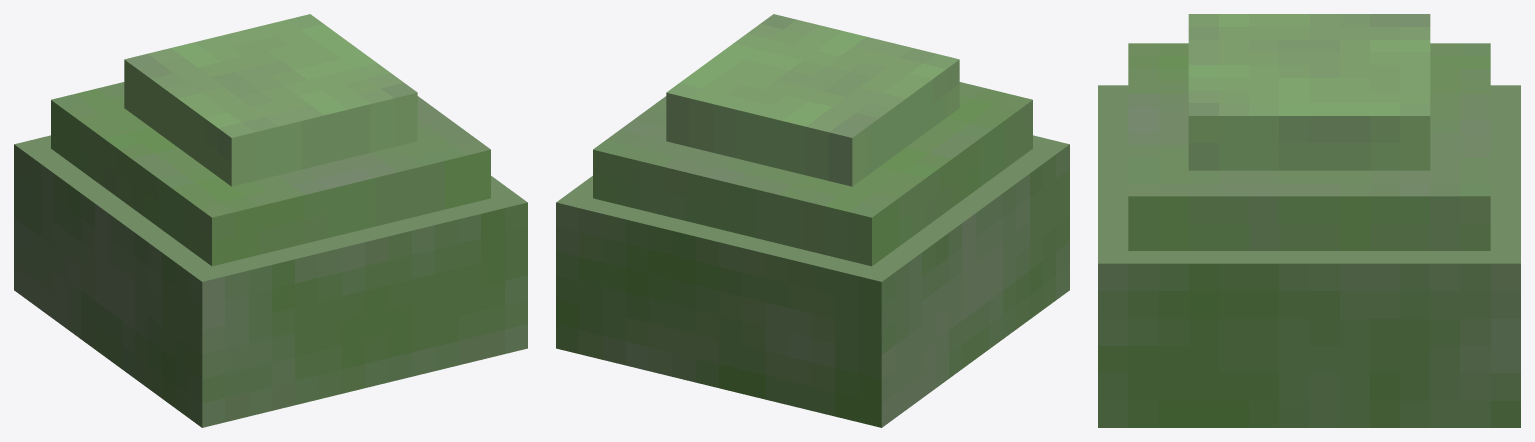
Rendered from slime.glb.
3 views of the same model, side by side, from view 1: azimuth 30°, elevation 25°; view 2: azimuth 150°, elevation 25°; view 3: azimuth 270°, elevation 25° (orthographic). The views are drawn at different scales.
Visible parts, largest first — view 1: mesh (×3); view 2: mesh (×3); view 3: mesh (×3).
Part boxes in pixels (<box>): mesh (×3): <box>14,14,527,427</box>; mesh (×3): <box>556,14,1069,427</box>; mesh (×3): <box>1098,14,1520,427</box>.
Bounding box in the file's own units: 0.875 × 0.625 × 0.875.
1 material, 1 textured.
